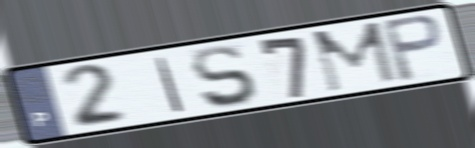2: (58, 62, 132, 133)
7: (255, 35, 308, 100)
I: (153, 55, 187, 115)
M: (309, 19, 400, 95)
P: (379, 12, 446, 84)
S: (189, 43, 261, 111)
